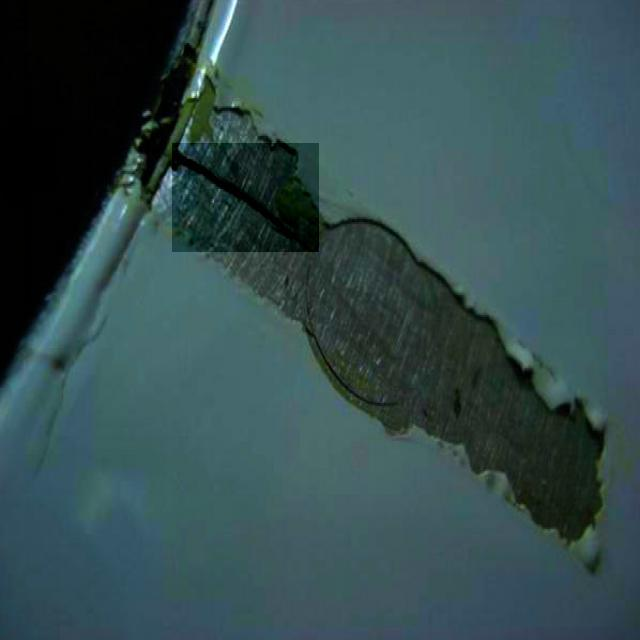crack: (173, 144, 320, 253)
